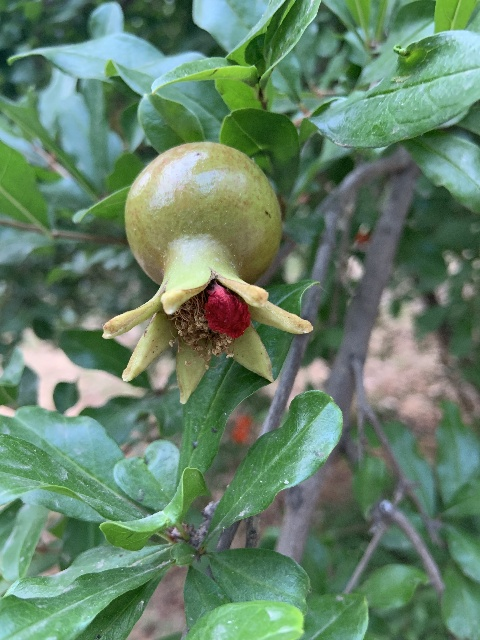mid-growth: (102, 141, 314, 404)
